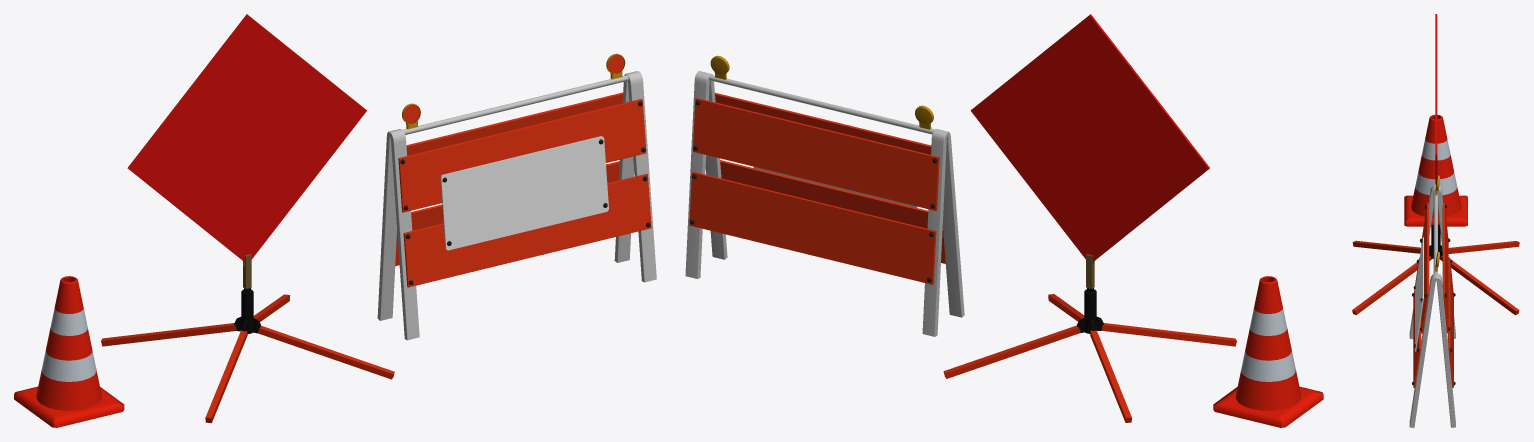
3 views of the same model, side by side, from view 1: azimuth 30°, elevation 25°; view 2: azimuth 150°, elevation 25°; view 3: azimuth 270°, elevation 25° (orthographic). The views are drawn at different scales.
Parts seen in each view (by area): view 1: polySurface35 (×3), pCube17 (×3), pCylinder2 (×3); view 2: polySurface35 (×3), pCube17 (×3), pCylinder2 (×3); view 3: polySurface35 (×4), pCylinder2 (×3), pCube17 (×3).
Part boxes in pixels (bbox=[...]): polySurface35 (×3): bbox=[377, 71, 656, 340]; pCube17 (×3): bbox=[101, 14, 394, 423]; pCylinder2 (×3): bbox=[14, 276, 124, 427]; polySurface35 (×3): bbox=[685, 55, 964, 336]; pCube17 (×3): bbox=[943, 14, 1236, 422]; pCylinder2 (×3): bbox=[1213, 276, 1323, 427]; polySurface35 (×4): bbox=[1409, 184, 1455, 427]; pCylinder2 (×3): bbox=[1404, 114, 1467, 226]; pCube17 (×3): bbox=[1352, 14, 1519, 315].
Bounding box in the file's own units: 2 × 1.1 × 0.6253.
